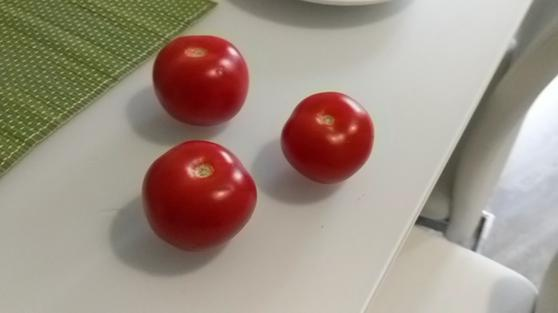tomato: (139, 132, 262, 247), (280, 82, 374, 186), (156, 32, 242, 126)
